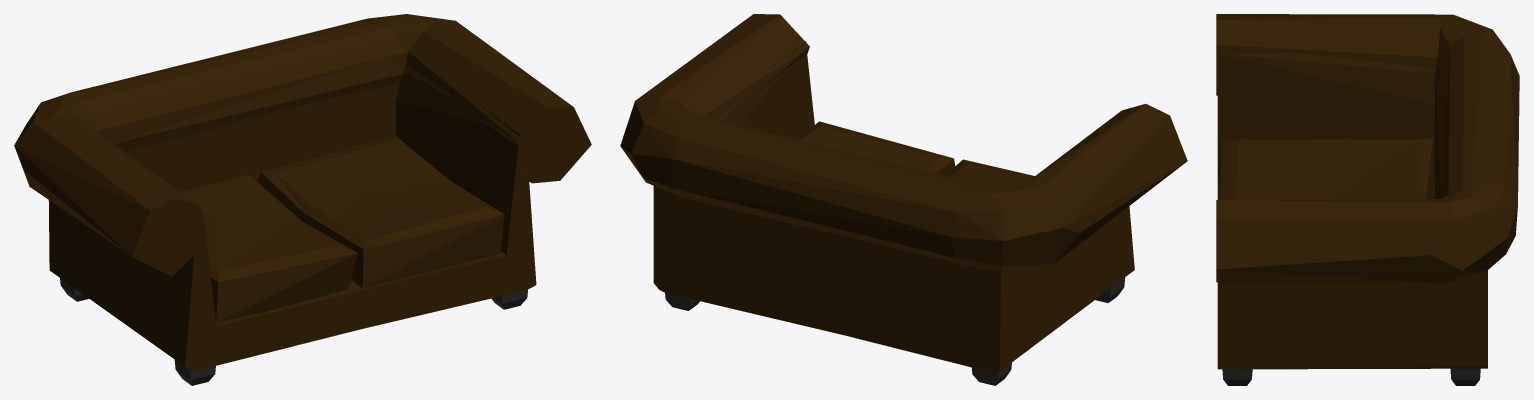
File: canape_cuir.fbx
3 renders of one model, left to right at view 1: azimuth 30°, elevation 25°; view 2: azimuth 150°, elevation 25°; view 3: azimuth 270°, elevation 25°, orthographic.
Visible parts, largest first — view 1: canape; view 2: canape; view 3: canape.
Part boxes in pixels (x1,y1,x2,y2): canape: (14,14,591,385); canape: (620,14,1187,385); canape: (1216,14,1519,385).
Bounding box in the file's own units: 182 × 74.7 × 105.
